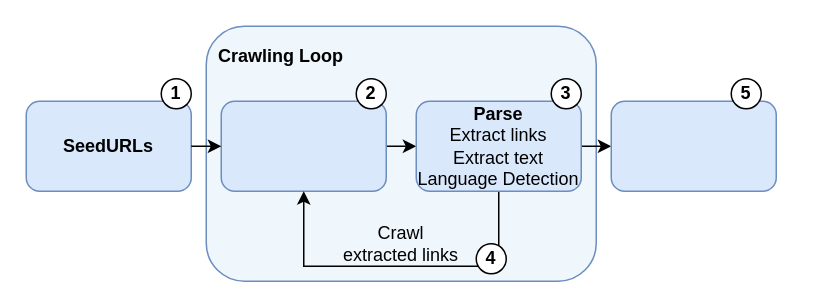
Some shapes in this 818 by 308 pixel diagram are drawn without their labels. The centre of each missing label's shape, as x and y in pixels:
Crawl Download HTML: [303,145]
Finalize: [693,145]
